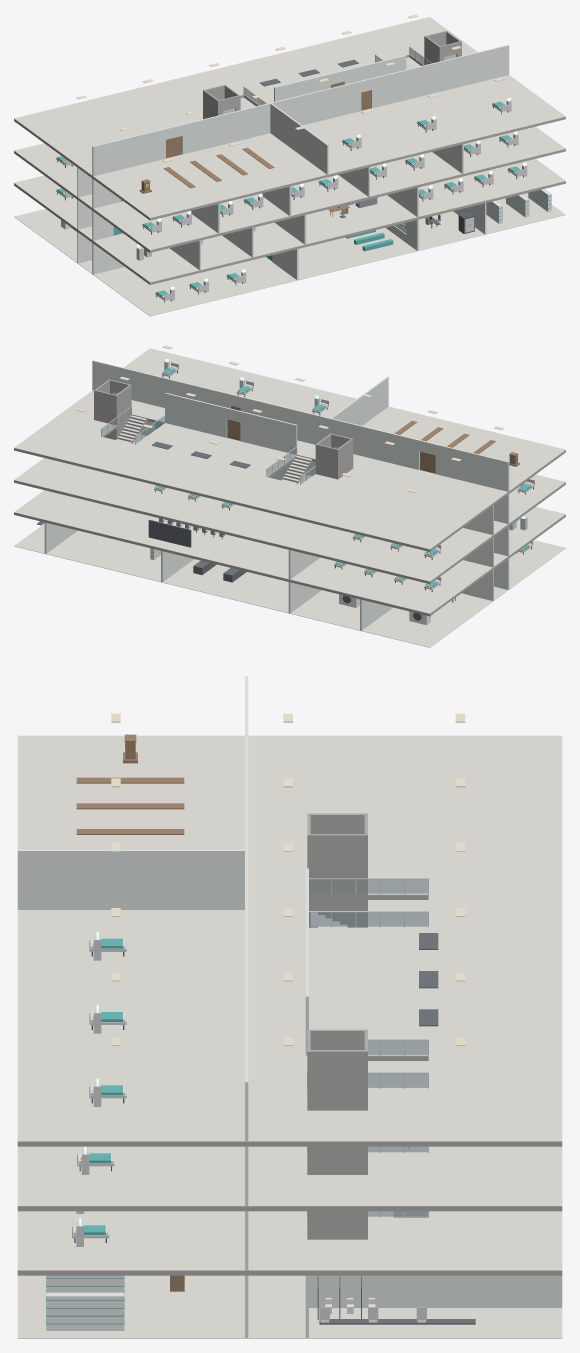
Rendered from SM_Hopital_CHU_Interieur.fbx.
3 views of the same model, one above another, from view 1: azimuth 30°, elevation 25°; view 2: azimuth 150°, elevation 25°; view 3: azimuth 270°, elevation 25° (orthographic). The views are drawn at different scales.
Visible parts, largest first — view 1: Hopital_Int_R3_Structure, Hopital_Int_R1_Structure, Hopital_Int_R2_Structure, Hopital_Int_RDC_Structure, Hopital_Int_RDC_Mobilier, Hopital_Int_R2_Mobilier, Hopital_Int_R3_Mobilier, Hopital_Int_R1_Mobilier; view 2: Hopital_Int_R3_Structure, Hopital_Int_R2_Structure, Hopital_Int_R1_Structure, Hopital_Int_RDC_Structure, Hopital_Int_R3_Mobilier, Hopital_Int_R1_Mobilier, Hopital_Int_RDC_Mobilier, Hopital_Int_R2_Mobilier; view 3: Hopital_Int_R3_Structure, Hopital_Int_R2_Structure, Hopital_Int_R1_Structure, Hopital_Int_RDC_Structure, Hopital_Int_RDC_Mobilier, Hopital_Int_R3_Mobilier.
Part boxes in pixels (x1,y1,x2,y2): Hopital_Int_R3_Structure: (14,14,565,220); Hopital_Int_R1_Structure: (14,159,565,284); Hopital_Int_R2_Structure: (14,57,565,252); Hopital_Int_RDC_Structure: (14,193,565,316); Hopital_Int_RDC_Mobilier: (61,189,551,302); Hopital_Int_R2_Mobilier: (56,131,518,234); Hopital_Int_R3_Mobilier: (139,59,511,193); Hopital_Int_R1_Mobilier: (56,162,527,260); Hopital_Int_R3_Structure: (14,345,565,551); Hopital_Int_R2_Structure: (14,415,565,583); Hopital_Int_R1_Structure: (14,490,565,616); Hopital_Int_RDC_Structure: (14,522,565,647); Hopital_Int_R3_Mobilier: (151,358,519,468); Hopital_Int_R1_Mobilier: (148,515,527,591); Hopital_Int_RDC_Mobilier: (37,521,532,625); Hopital_Int_R2_Mobilier: (154,479,534,559); Hopital_Int_R3_Structure: (17,676,562,1146); Hopital_Int_R2_Structure: (17,894,562,1211); Hopital_Int_R1_Structure: (17,1146,562,1275); Hopital_Int_RDC_Structure: (17,1211,562,1338); Hopital_Int_RDC_Mobilier: (46,1211,475,1330); Hopital_Int_R3_Mobilier: (76,734,438,1106).
Size of the model in its own units: 5540 by 1644 by 3140.
